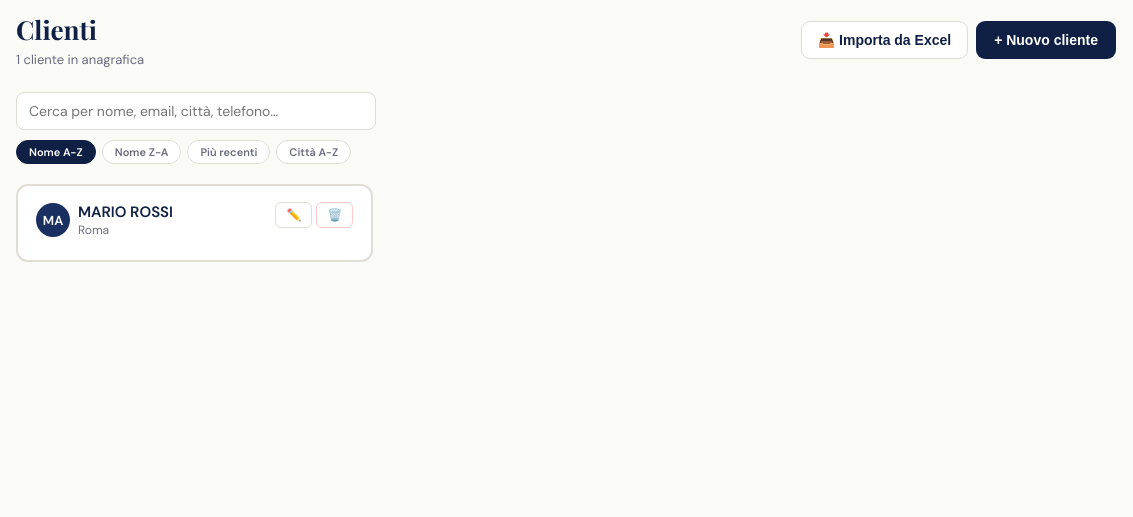
Scheda cliente — tab Liste viaggio › il tab Liste viaggio carica le liste del solo cliente selezionato
This screenshot has width=1133, height=517.
Click the text "MARIO ROSSI" at (126, 212), box [78,202,173,222]
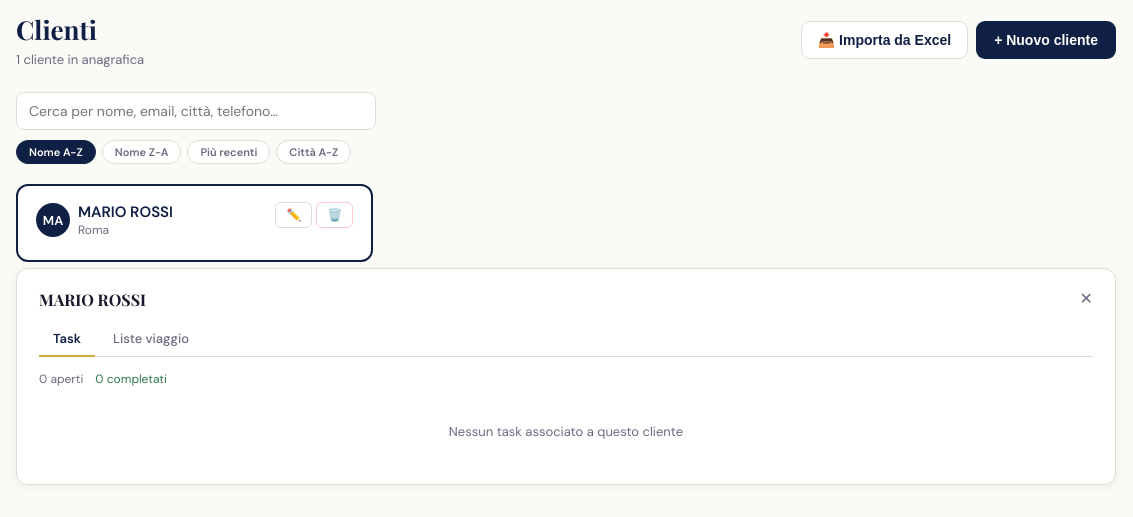
Click the button "Liste viaggio" at (151, 340), box [99,322,203,357]
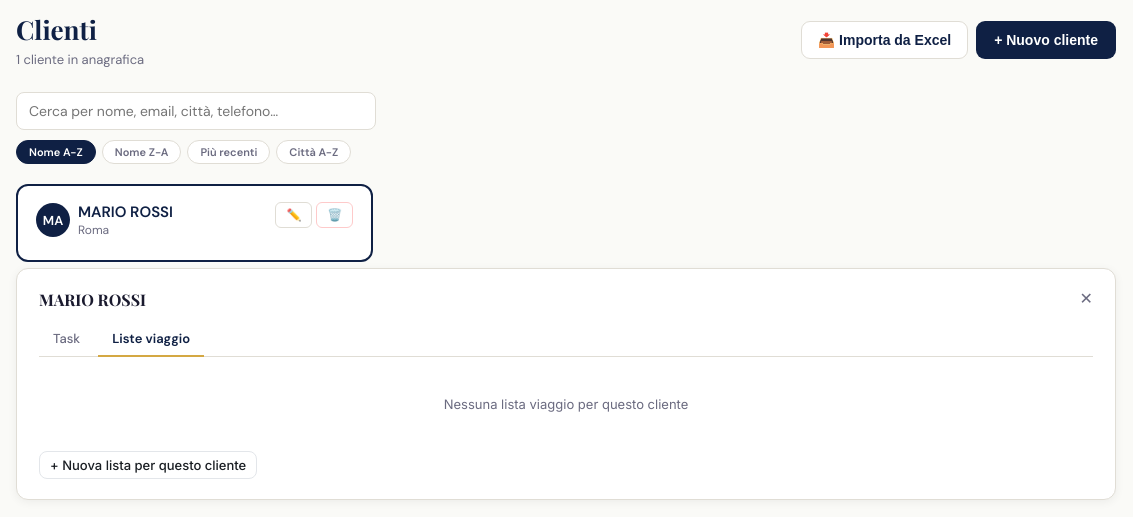
Now the text "Nessuna lista viaggio per questo cliente" is shown, box [444,396,688,412]
